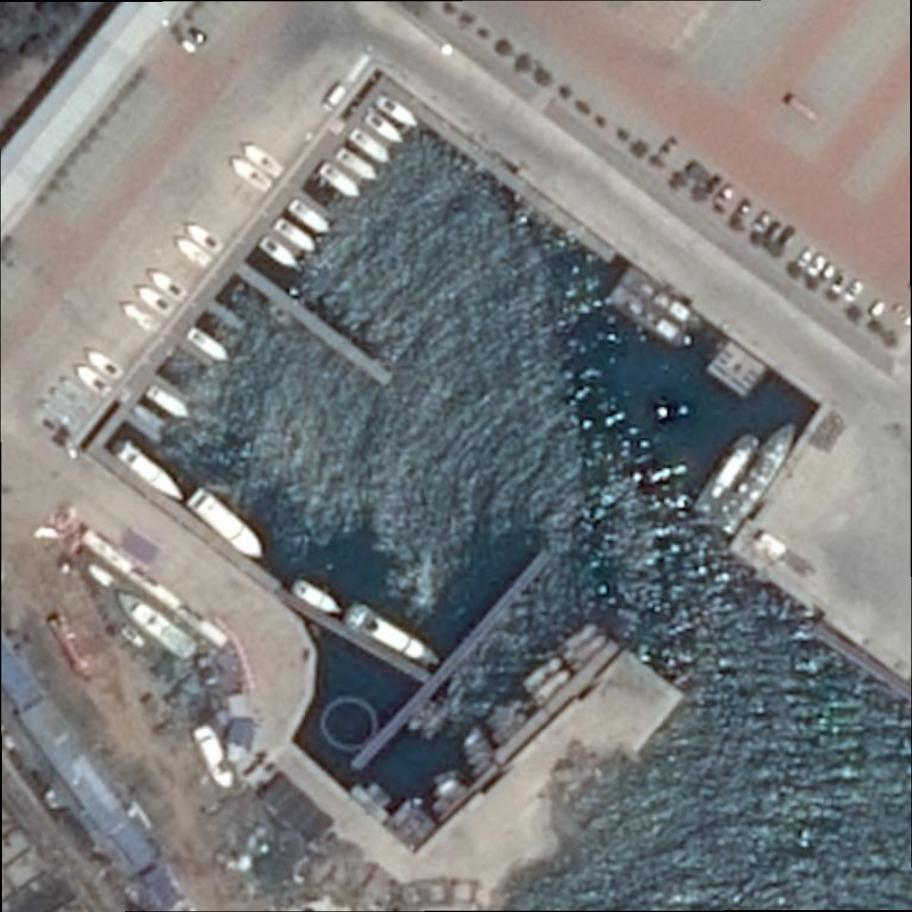ship: (712, 415, 805, 538), (343, 598, 446, 674), (185, 485, 272, 565), (606, 280, 698, 355), (691, 428, 764, 521), (113, 584, 199, 662), (619, 265, 708, 338), (111, 436, 190, 504), (192, 723, 240, 791), (289, 575, 348, 620), (225, 151, 275, 196), (238, 137, 286, 181), (272, 214, 321, 257), (144, 382, 193, 424), (347, 125, 394, 168), (317, 161, 363, 204), (334, 145, 382, 186), (374, 92, 422, 133), (185, 325, 232, 366), (556, 620, 601, 661), (287, 198, 333, 238), (520, 654, 564, 695), (362, 108, 407, 148), (532, 666, 574, 707), (567, 632, 610, 672), (257, 234, 300, 273), (182, 219, 225, 258), (145, 267, 188, 305), (172, 233, 214, 270), (120, 298, 162, 335), (135, 281, 176, 318), (85, 347, 125, 384), (74, 363, 115, 399)
